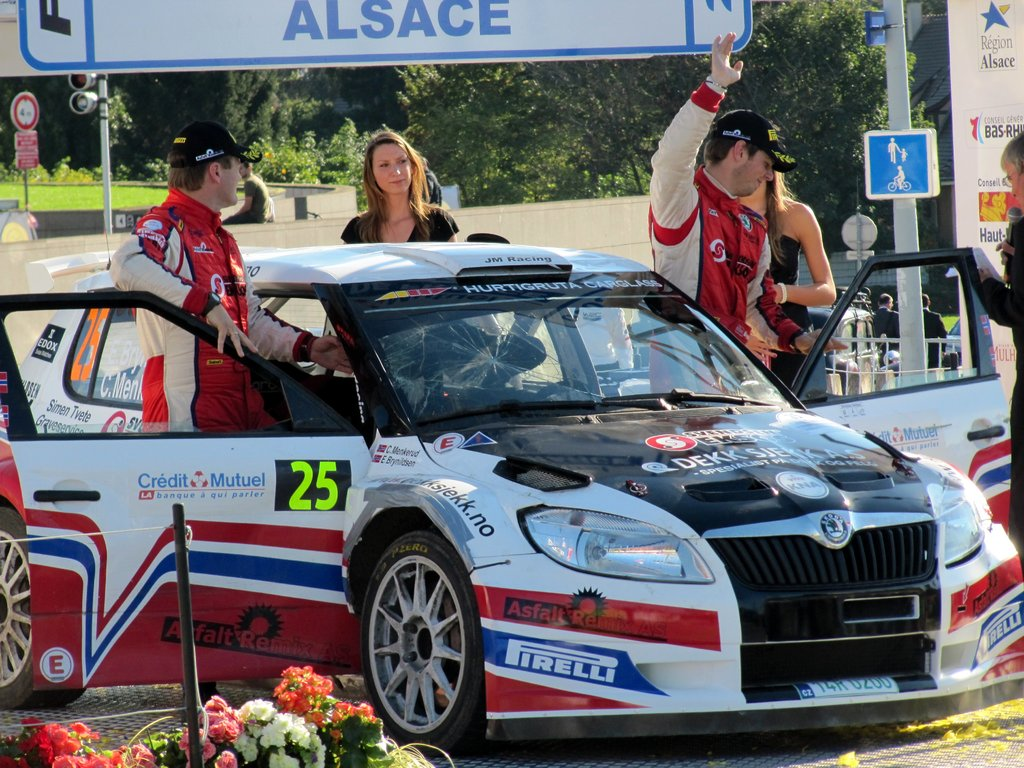Person: (105, 119, 354, 437), (646, 28, 847, 394), (734, 169, 839, 394), (976, 128, 1024, 584), (567, 304, 633, 371), (221, 154, 267, 224), (868, 293, 900, 371), (921, 292, 948, 370), (264, 195, 276, 220)
